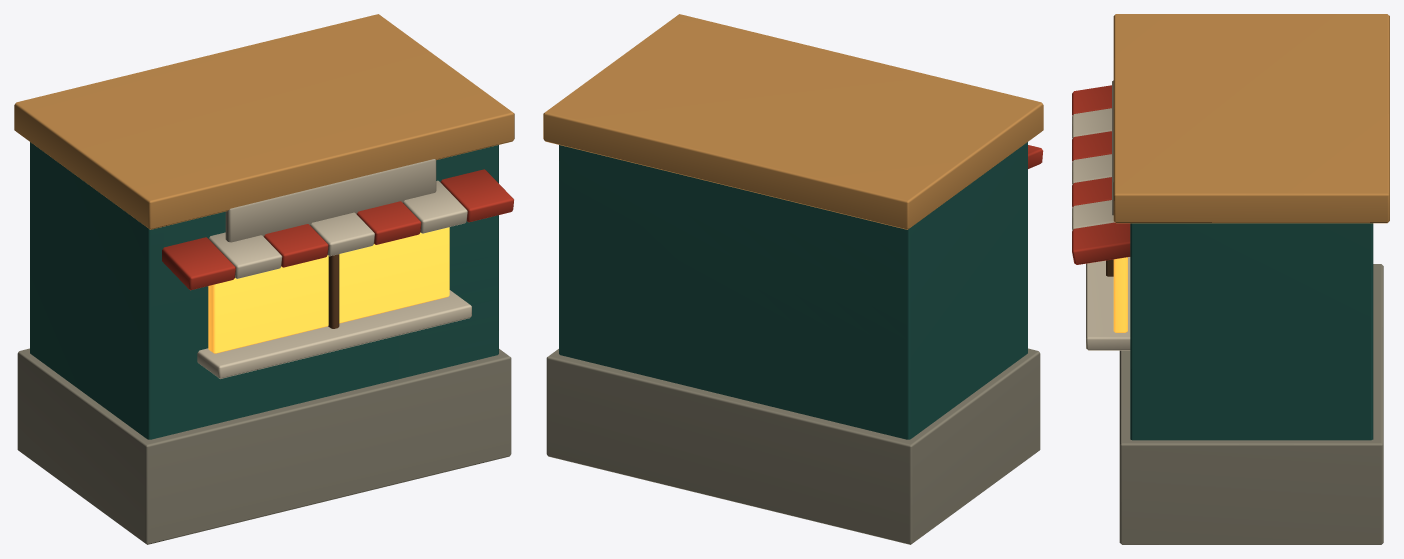
Rendered from truck_stop.glb.
The picture shows the model from 3 angles, left to right: view 1: azimuth 30°, elevation 25°; view 2: azimuth 150°, elevation 25°; view 3: azimuth 270°, elevation 25°; orthographic projection.
Parts seen in each view (by area): view 1: Plinth, Blank sign; view 2: Plinth; view 3: Plinth.
Boxes of the visible parts, x1,y1,x2,y2 form: Plinth: (14,14,514,544); Blank sign: (225,159,436,242); Plinth: (543,14,1043,544); Plinth: (1072,14,1389,544).
Size of the model in its own units: 4.5 by 4.07 by 3.34.
